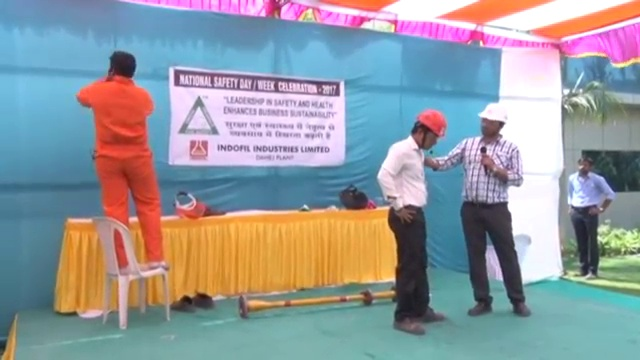helmet: (414, 107, 451, 139), (475, 102, 508, 126)
helmet_off: (107, 50, 138, 81), (576, 153, 593, 174)
helmet_on: (409, 108, 449, 152), (473, 102, 508, 141)
person: (423, 102, 534, 319), (72, 50, 172, 274), (376, 106, 450, 337), (564, 153, 618, 283)
